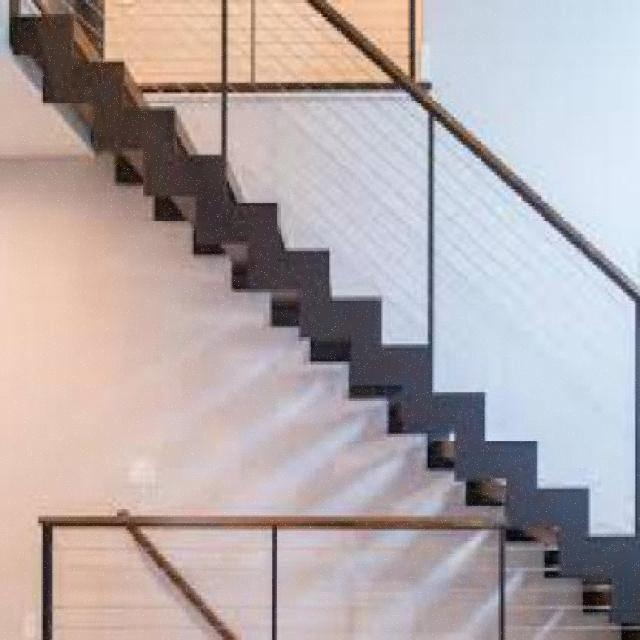stair: (4, 0, 630, 637)
